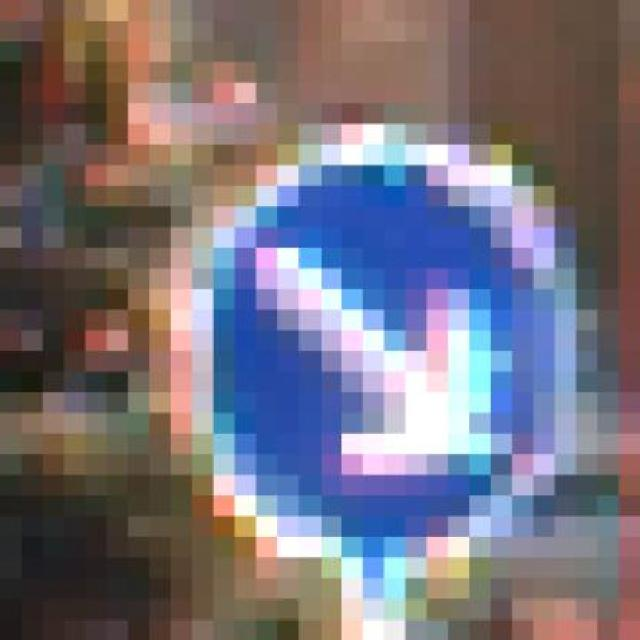Keep-Right: (128, 103, 597, 579)
